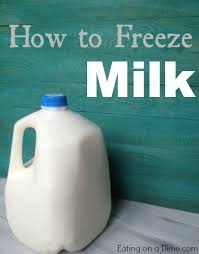milk: (10, 93, 115, 251)
